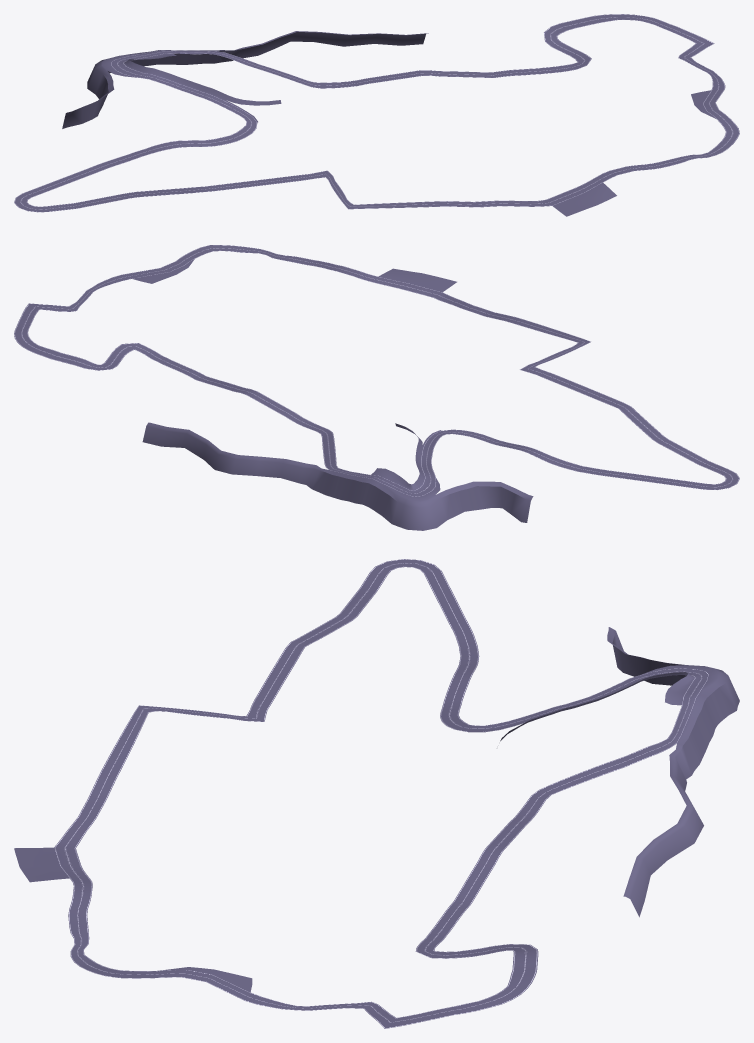
The model's file is town.fbx.
3 views of the same model, one above another, from view 1: azimuth 30°, elevation 25°; view 2: azimuth 150°, elevation 25°; view 3: azimuth 270°, elevation 25° (orthographic). The views are drawn at different scales.
Parts seen in each view (by area): view 1: Plane_1; view 2: Plane_1; view 3: Plane_1.
Boxes of the visible parts, left/top/right/bottom form: Plane_1: left=14, top=14, right=739, bottom=216; Plane_1: left=14, top=245, right=739, bottom=530; Plane_1: left=14, top=559, right=739, bottom=1028.
Bounding box in the file's own units: 352 × 19.83 × 230.
1 material, 1 textured.
